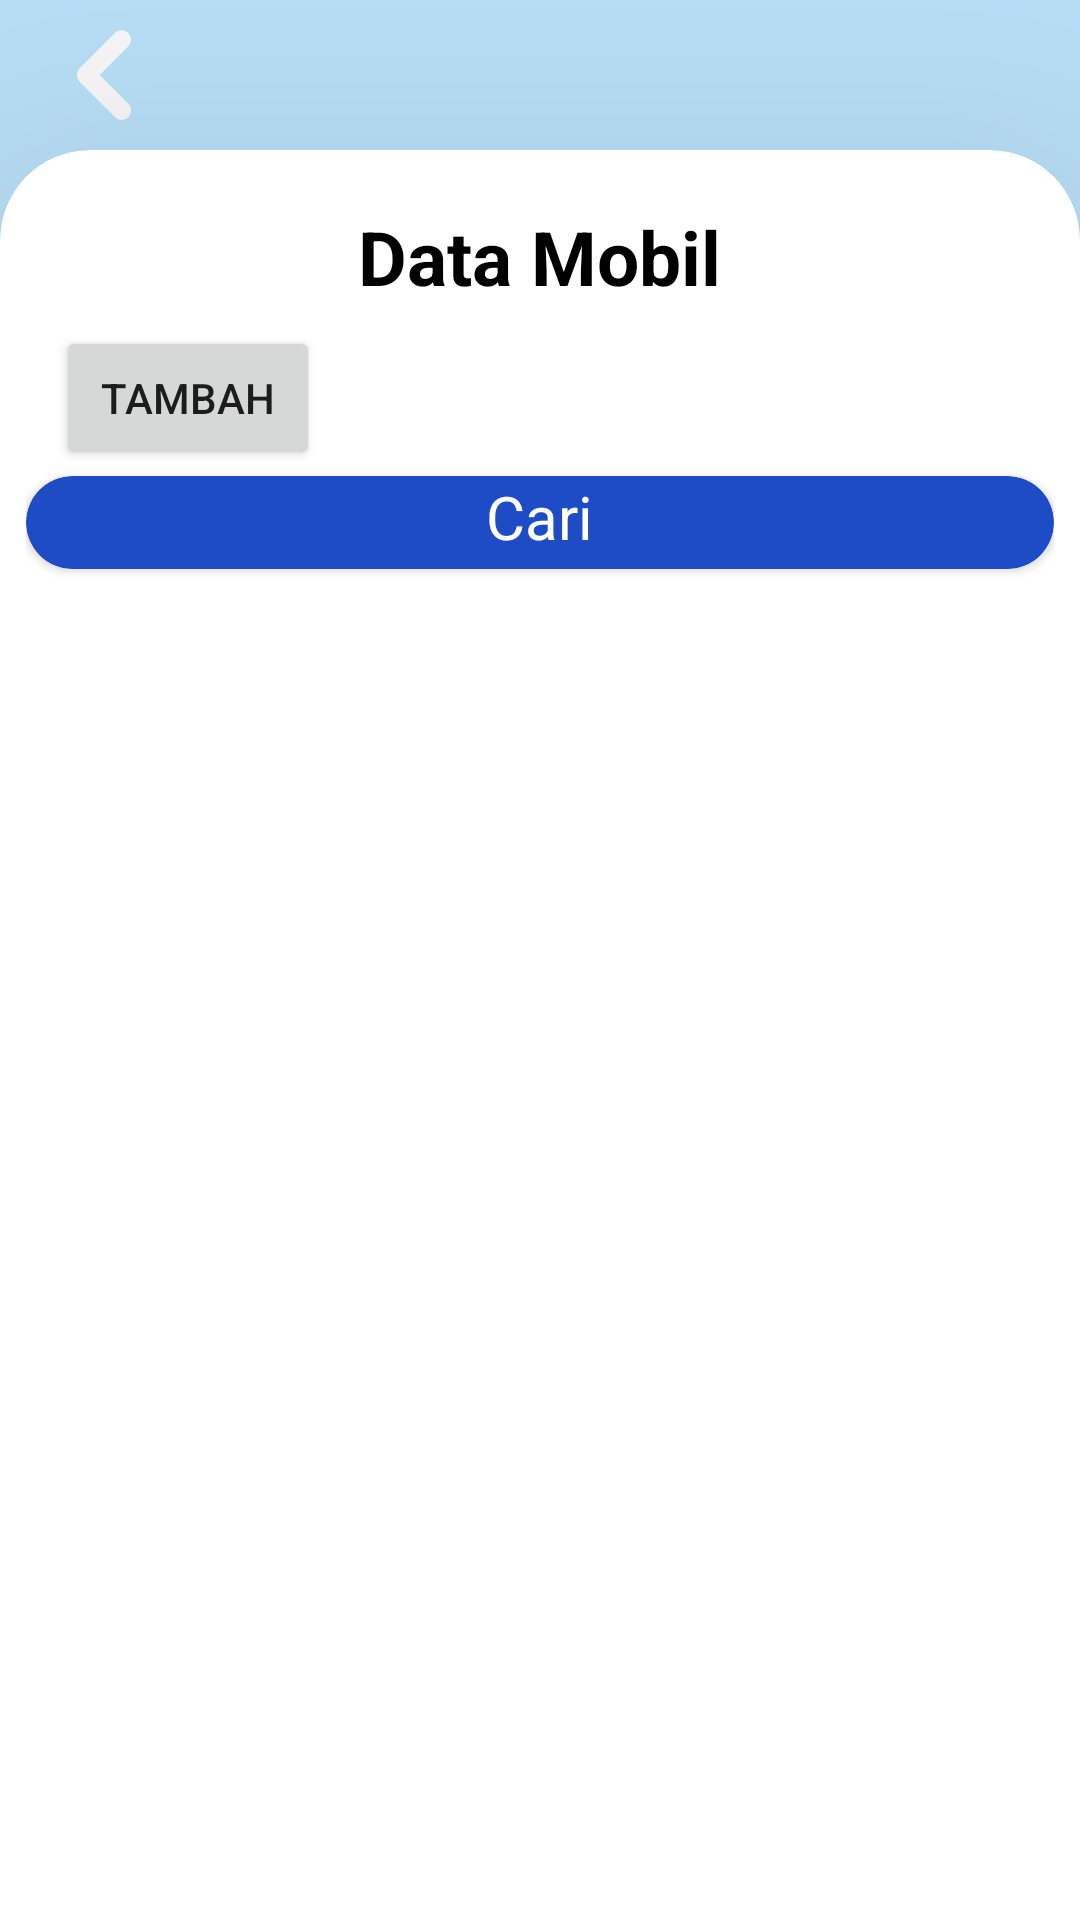

Icons on this 1080px×1920px Android screen, each with the point to tap as point (x, y):
back: point (104, 75)
